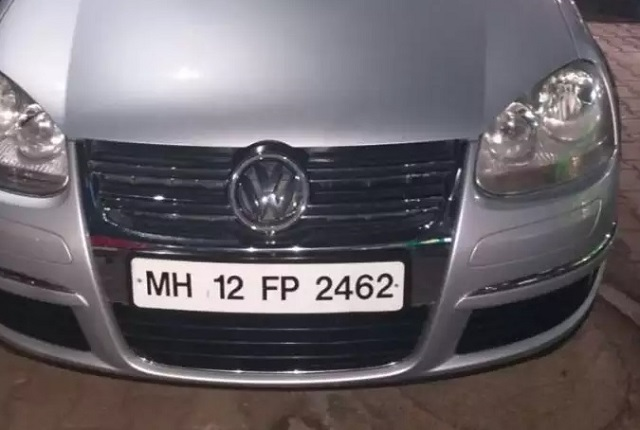licenseplate: (127, 254, 406, 315)
